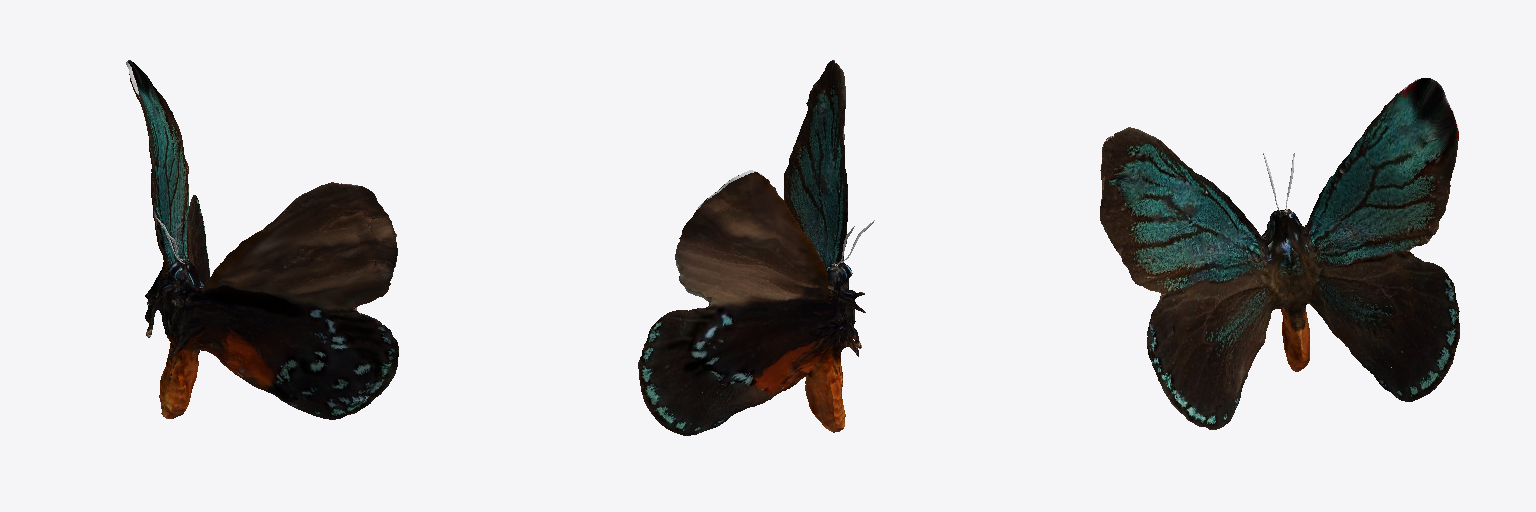
3 views of the same model, side by side, from view 1: azimuth 30°, elevation 25°; view 2: azimuth 150°, elevation 25°; view 3: azimuth 270°, elevation 25° (orthographic).
Parts seen in each view (by area): view 1: mmGroup0; view 2: mmGroup0; view 3: mmGroup0.
Part boxes in pixels (x1,y1,x2,y2): mmGroup0: (126, 60, 398, 419); mmGroup0: (638, 60, 874, 435); mmGroup0: (1100, 78, 1459, 429).
Bounding box in the file's own units: 4.98 × 7 × 7.52.
Materials: 3 (1 with a texture image).